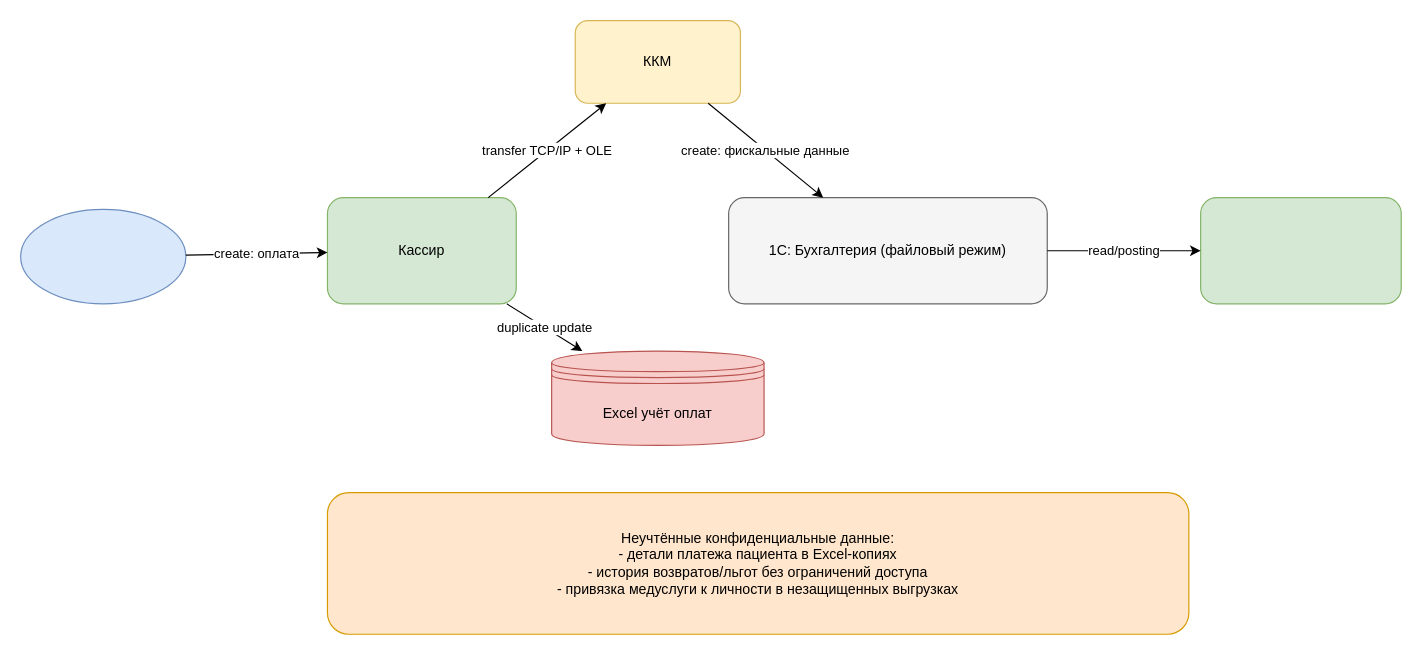
Image size: 1422x655. Some labels were removed from this diagram. Here are the shapes that lost their labels. From the top down, the centre of each, then its label:
At (102,256): "Пациент".
At (1300,250): "Бухгалтерия".
